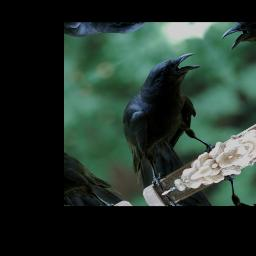Crow: (84, 46, 254, 200)
